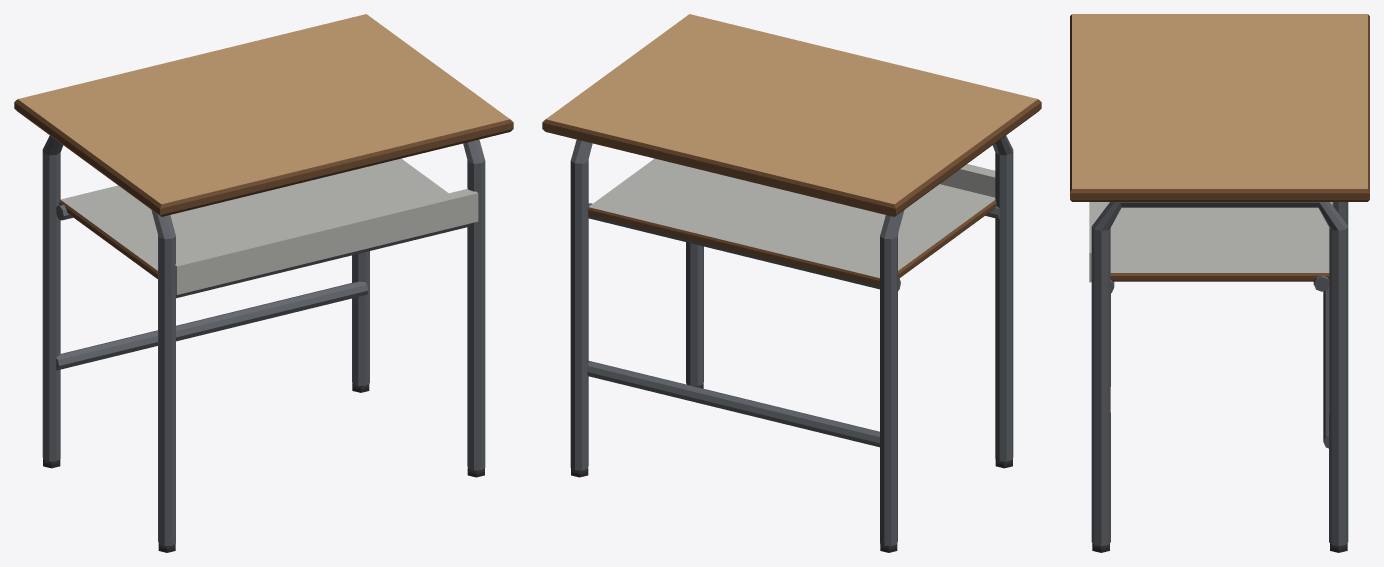
Rendered from FN_Desk_School.obj.
3 renders of one model, left to right at view 1: azimuth 30°, elevation 25°; view 2: azimuth 150°, elevation 25°; view 3: azimuth 270°, elevation 25°, orthographic. The views are drawn at different scales.
Parts seen in each view (by area): view 1: FN_Desk_School; view 2: FN_Desk_School; view 3: FN_Desk_School.
Part boxes in pixels (<box>): FN_Desk_School: <box>14,14,513,552</box>; FN_Desk_School: <box>542,14,1041,552</box>; FN_Desk_School: <box>1070,14,1369,552</box>.
Bounding box in the file's own units: 0.7 × 0.68 × 0.5.
Materials: 1 (1 with a texture image).
